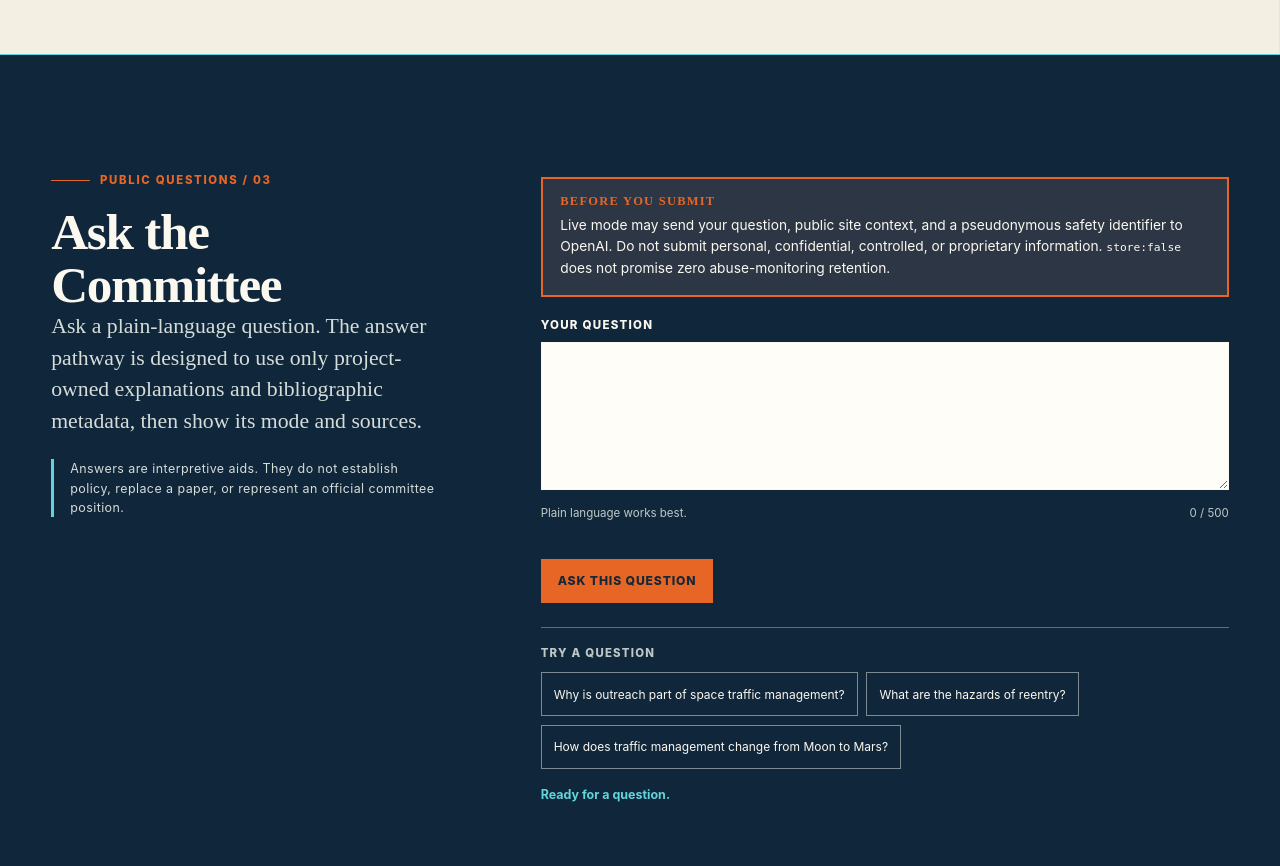
Test case: editorial application › renders catalog counts as a direct catalog answer, not preview or OpenAI
The image size is (1280, 866).
(page scrolled)
Type "how many publications currently exist?" into the text box labelled "Your question" at (885, 416), box [541,342,1229,490]
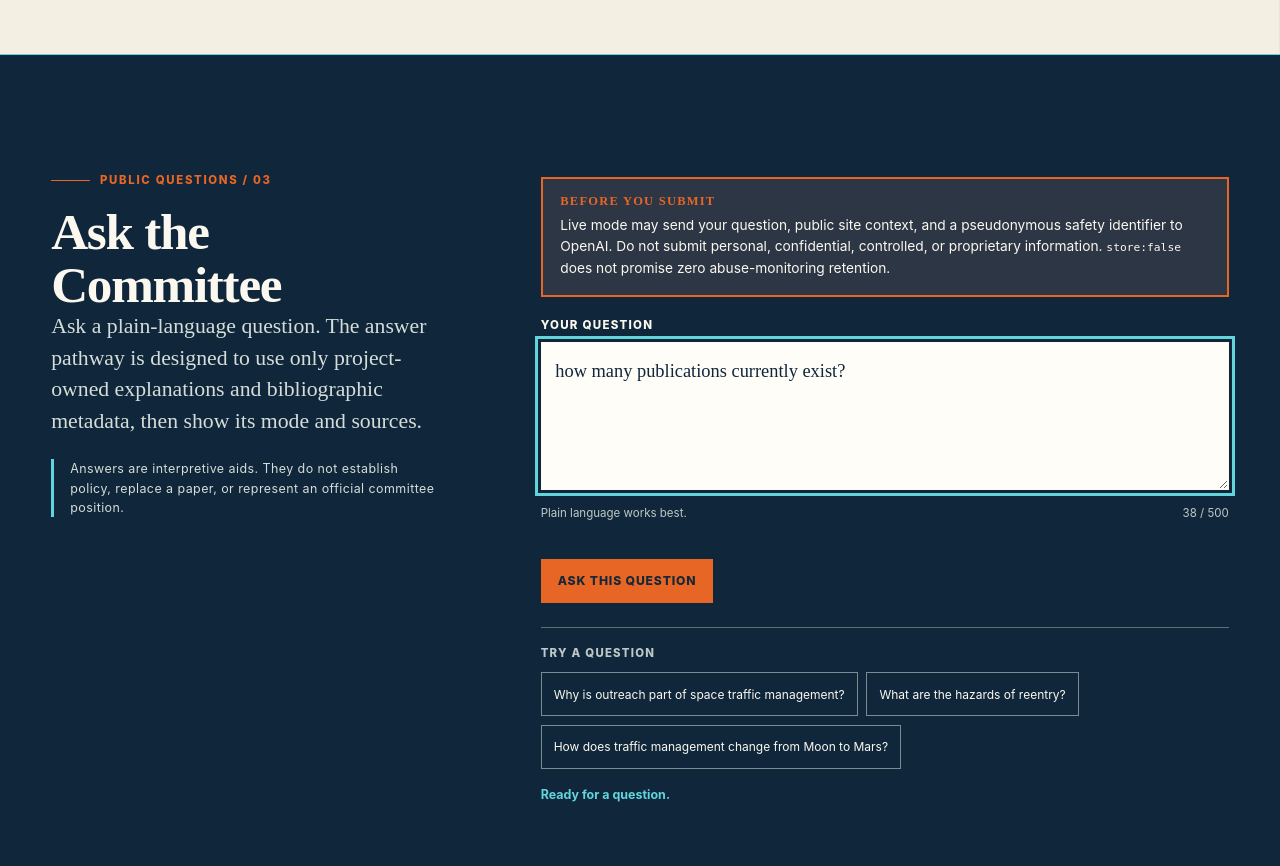
Click the button "Ask this question" at (627, 581), box [541,559,714,603]
(page scrolled)
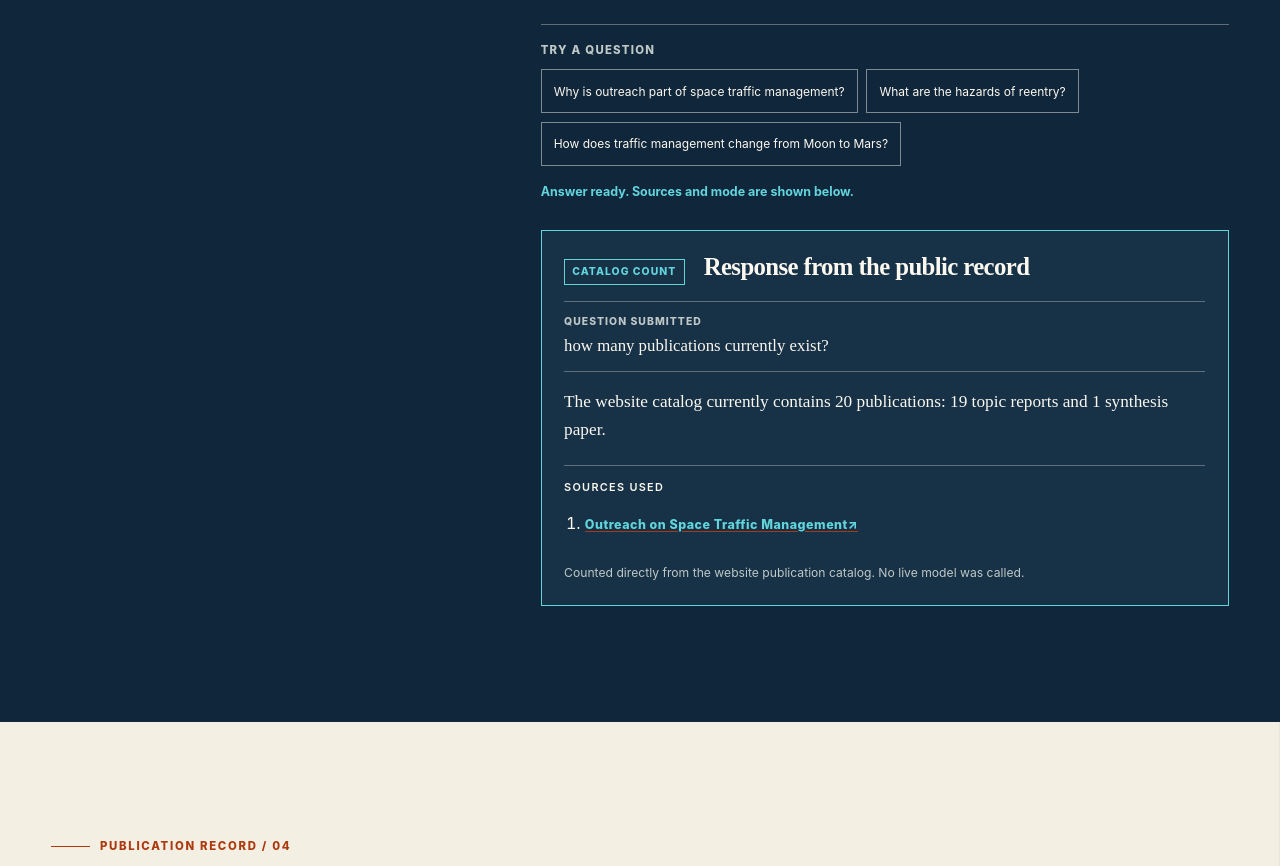
expect the text "Catalog count" is shown: met, box [564,259,684,284]
expect the text "20 publications: 19 topic reports" is shown: met, box [564,392,1168,439]
